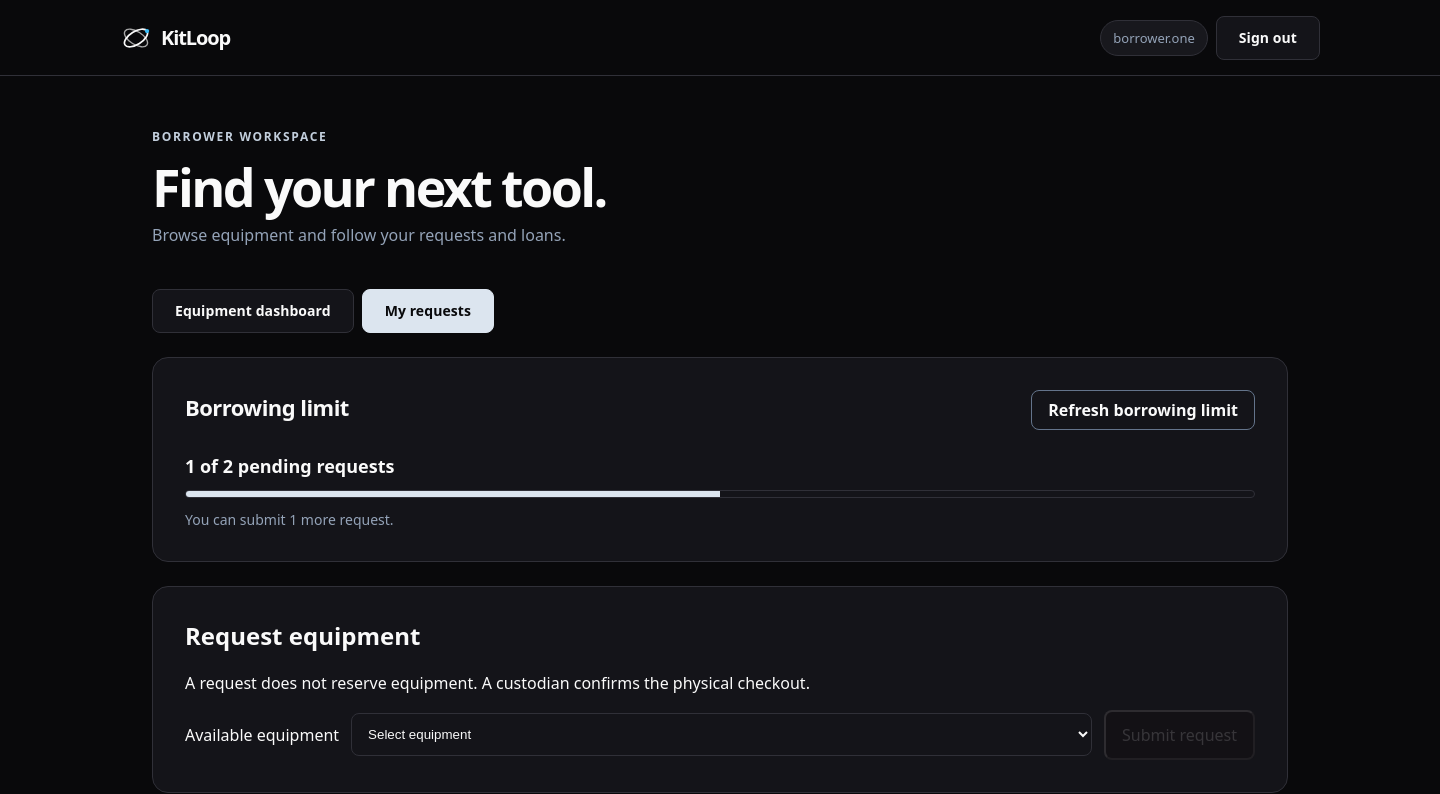
Test: CR-01 pending-request quota UI (AC11 / TC11) › keeps submission disabled while the quota refresh after a 409 is pending
Select "Camera · CAM-01" in the dropdown labelled "Available equipment" at x=722, y=735, box [351,713,1092,756]
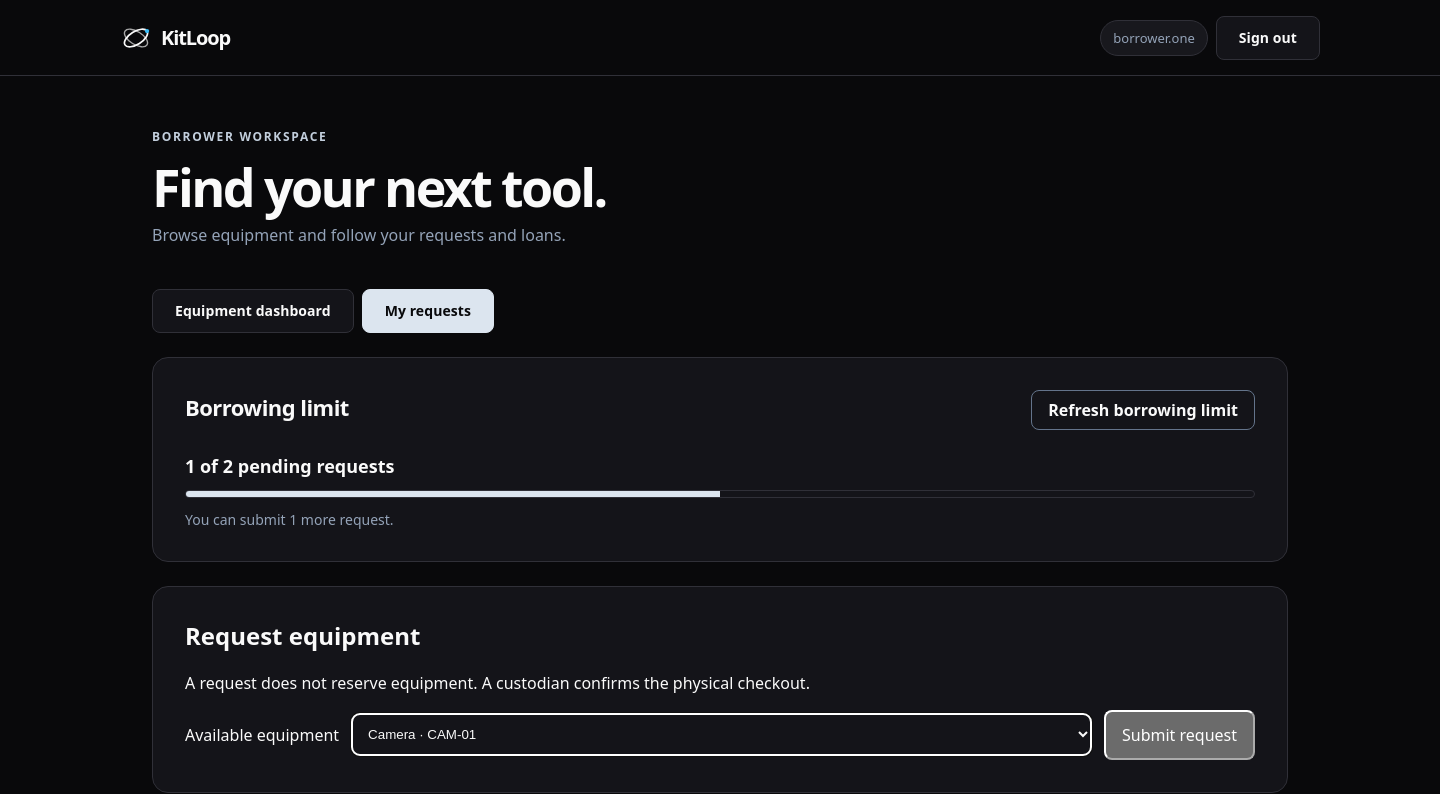
Check: the button "Submit request" is enabled
Click the button "Submit request" at x=1180, y=735, box [1104,710,1255,760]
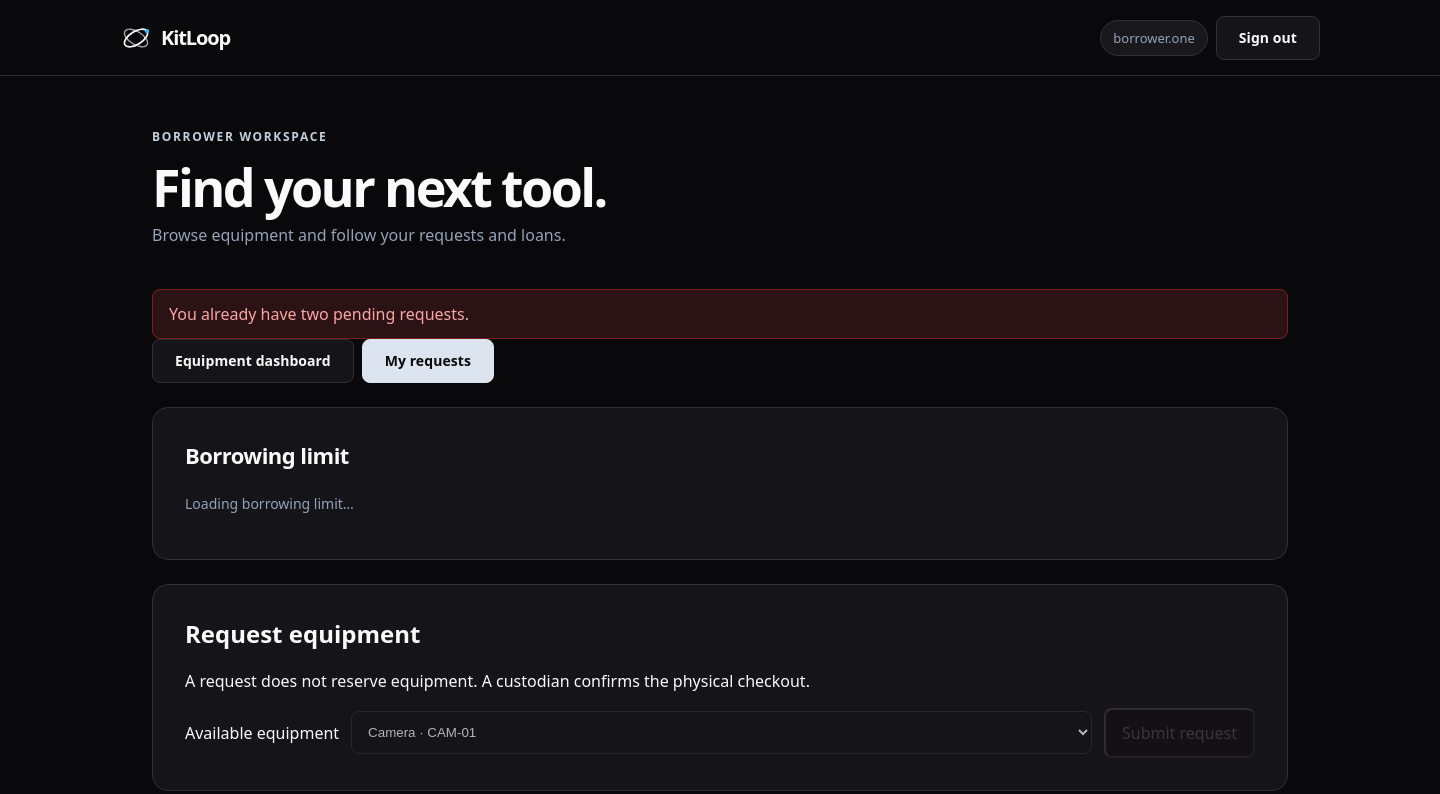
Check: the text "You already have two pending requests." is shown, box [152,289,1288,339]
Click the button "Submit request" at x=1180, y=733, box [1104,708,1255,758]
(page scrolled)
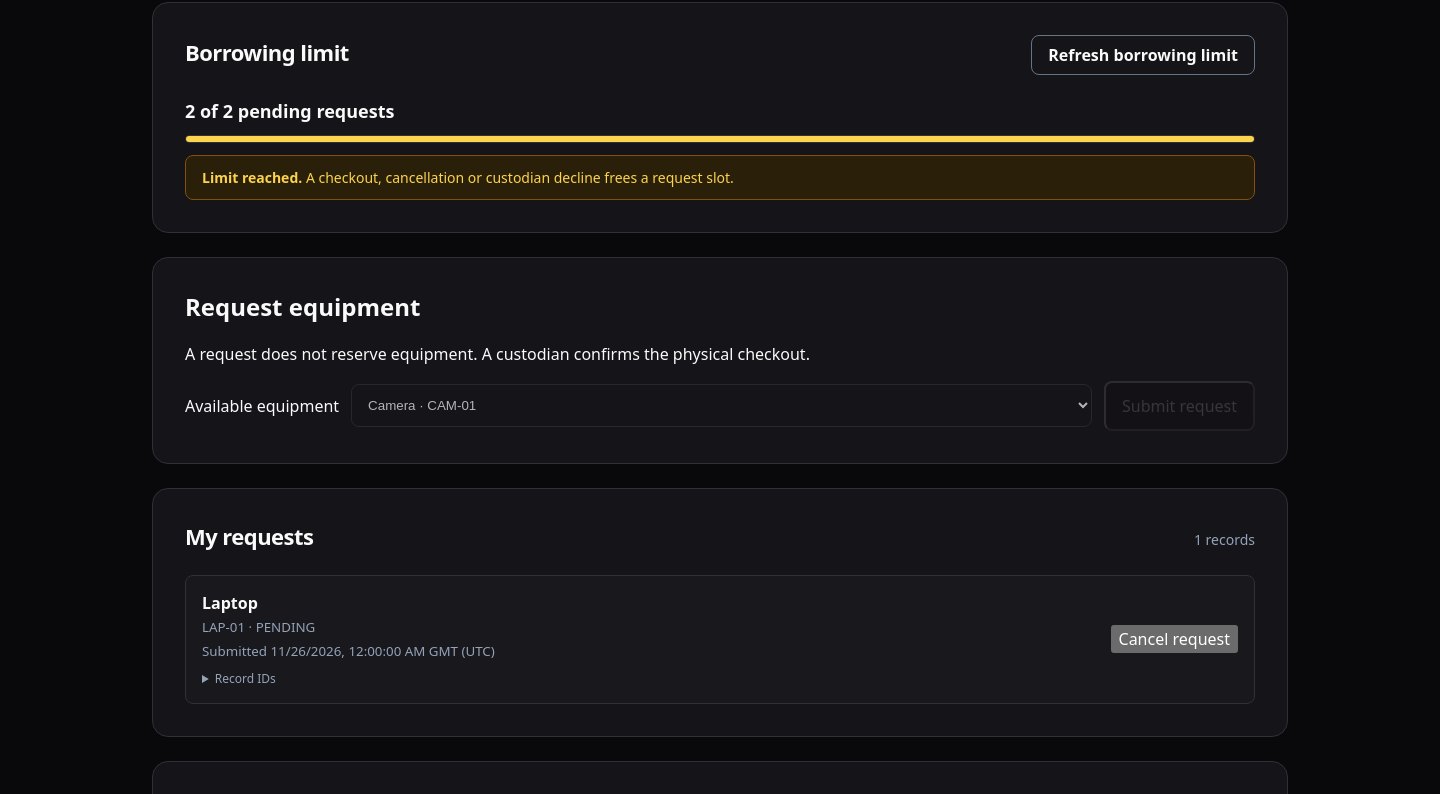
Check: the button "Submit request" is disabled, box [1104,381,1255,431]
Check: the text "2 of 2 pending requests" is shown, box [185,99,394,123]
